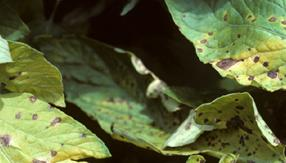Tomato Septoria leaf spot: (154, 0, 286, 98), (0, 68, 127, 163), (156, 88, 286, 163)
